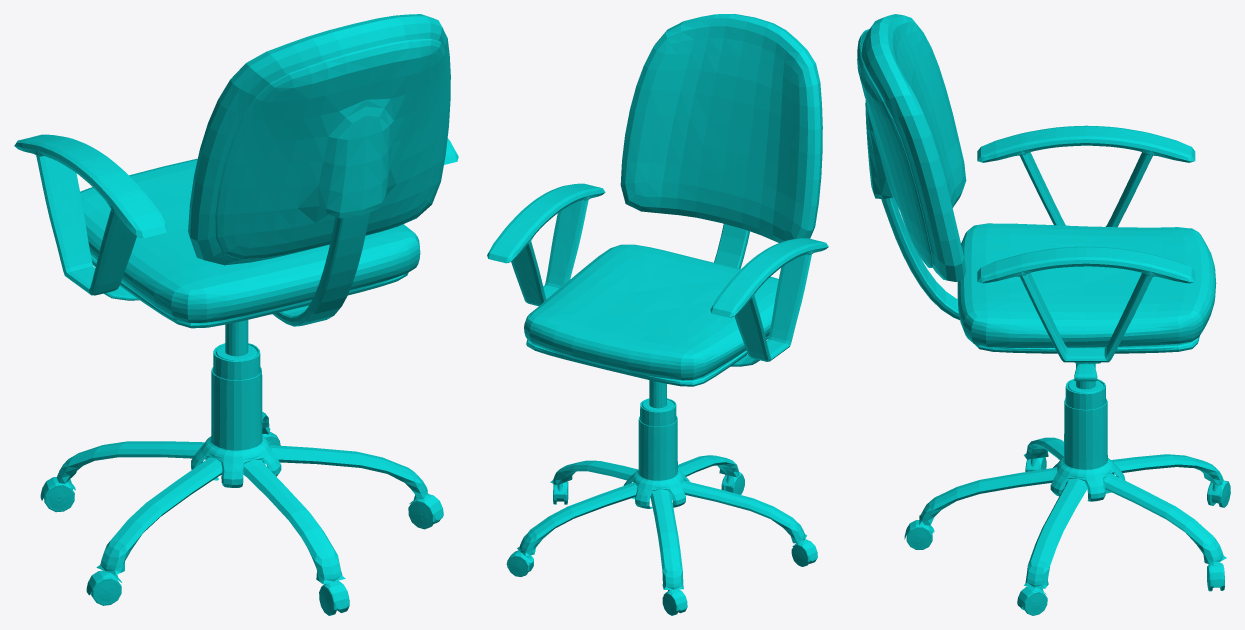
File: chair5_final200.obj
3 renders of one model, left to right at view 1: azimuth 30°, elevation 25°; view 2: azimuth 150°, elevation 25°; view 3: azimuth 270°, elevation 25°, orthographic. The views are drawn at different scales.
Size of the model in its own units: 0.7976 by 1.33 by 0.8717.
